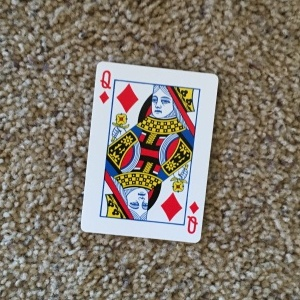card: (80, 59, 220, 241)
